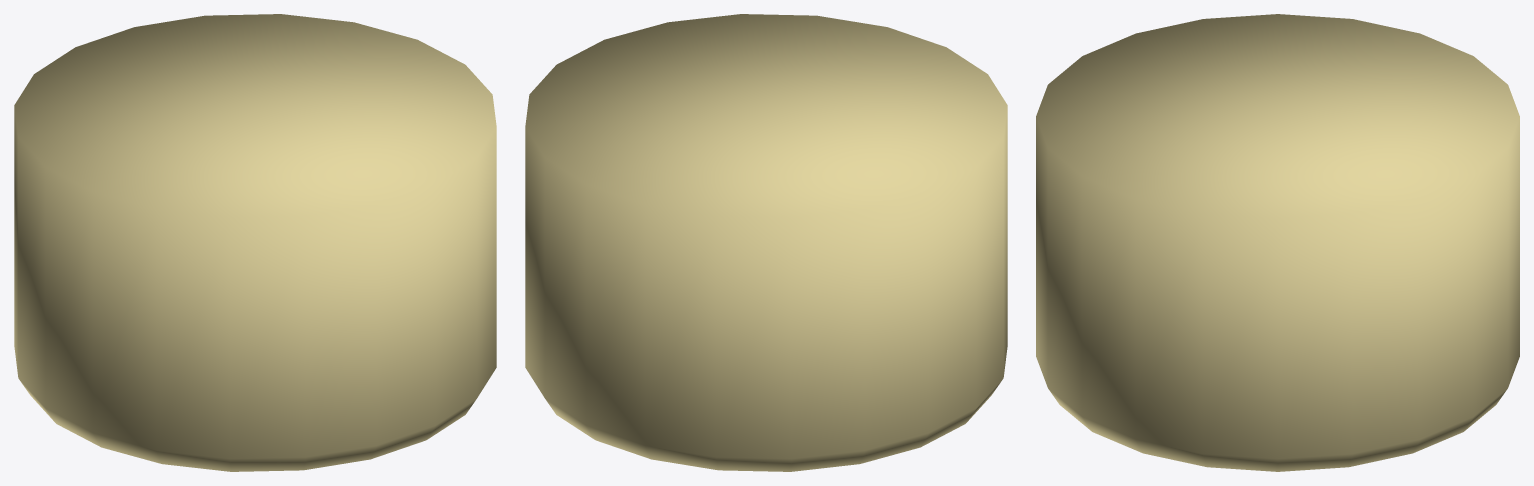
The model's file is kruiden.fbx.
3 renders of one model, left to right at view 1: azimuth 30°, elevation 25°; view 2: azimuth 150°, elevation 25°; view 3: azimuth 270°, elevation 25°, orthographic.
Visible parts, largest first — view 1: polySurface27; view 2: polySurface27; view 3: polySurface27.
Part boxes in pixels (x1,y1,x2,y2): polySurface27: (14, 14, 496, 471); polySurface27: (525, 14, 1007, 471); polySurface27: (1036, 14, 1519, 471).
Size of the model in its own units: 0.617 by 0.3641 by 0.617.
